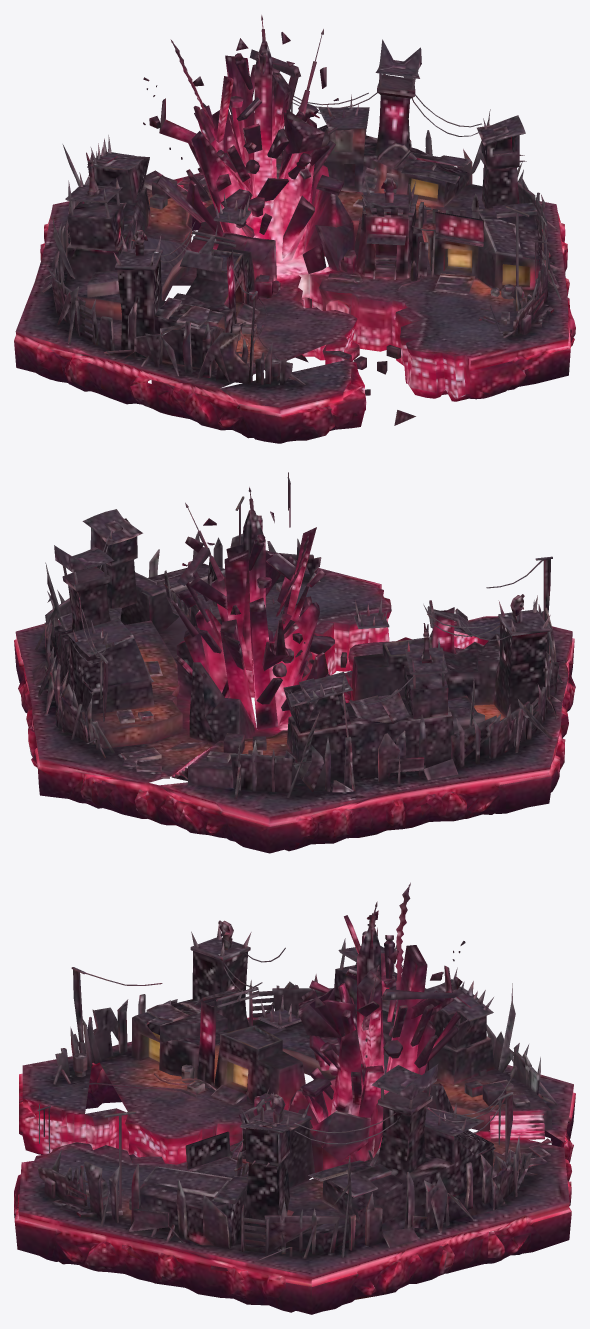
The model's file is village_barbare_v1.glb.
3 views of the same model, one above another, from view 1: azimuth 30°, elevation 25°; view 2: azimuth 150°, elevation 25°; view 3: azimuth 270°, elevation 25° (orthographic). The views are drawn at different scales.
Parts seen in each view (by area): view 1: tripo_node_bea639d7-20e8-4f2f-bca3-6607f1a85cfa; view 2: tripo_node_bea639d7-20e8-4f2f-bca3-6607f1a85cfa; view 3: tripo_node_bea639d7-20e8-4f2f-bca3-6607f1a85cfa.
Part boxes in pixels (x1,y1,x2,y2): tripo_node_bea639d7-20e8-4f2f-bca3-6607f1a85cfa: [14, 15, 575, 443]; tripo_node_bea639d7-20e8-4f2f-bca3-6607f1a85cfa: [14, 472, 575, 853]; tripo_node_bea639d7-20e8-4f2f-bca3-6607f1a85cfa: [14, 882, 575, 1314].
Bounding box in the file's own units: 0.9995 × 0.5942 × 0.8647.
Materials: 1 (1 with a texture image).
